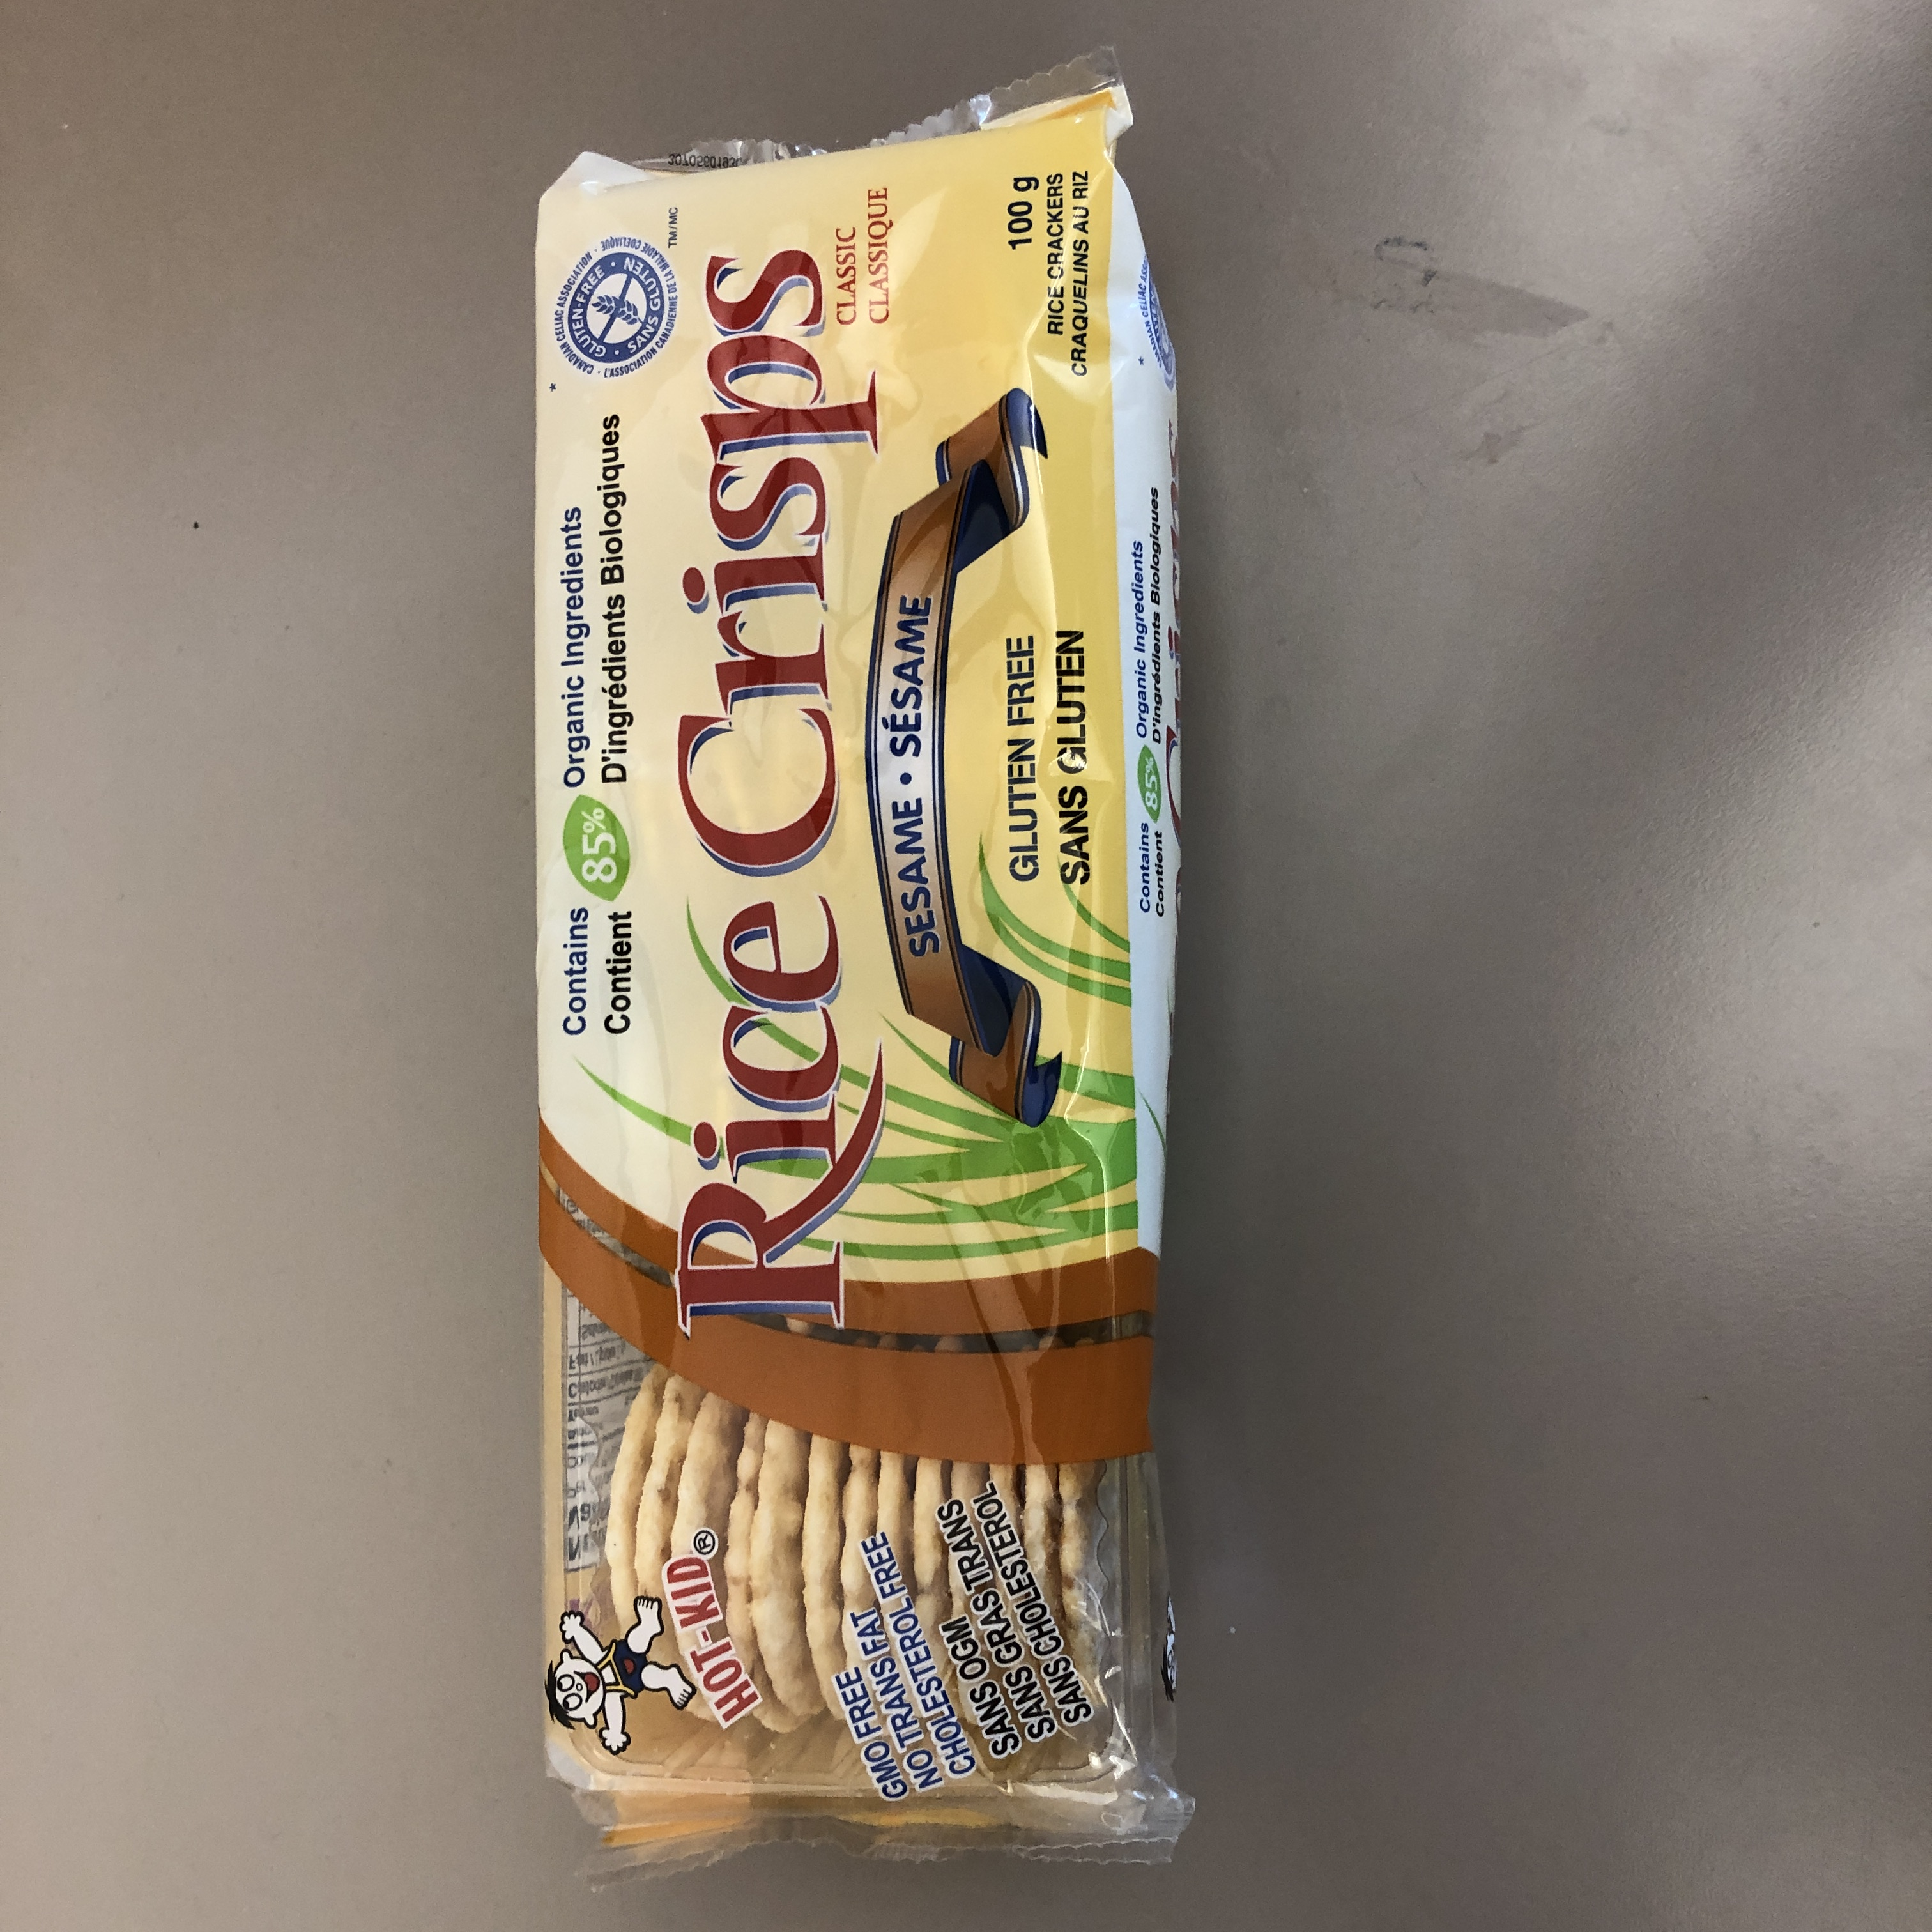hot_kid_rice_crisps_sesame: (110, 740, 1814, 1379)
